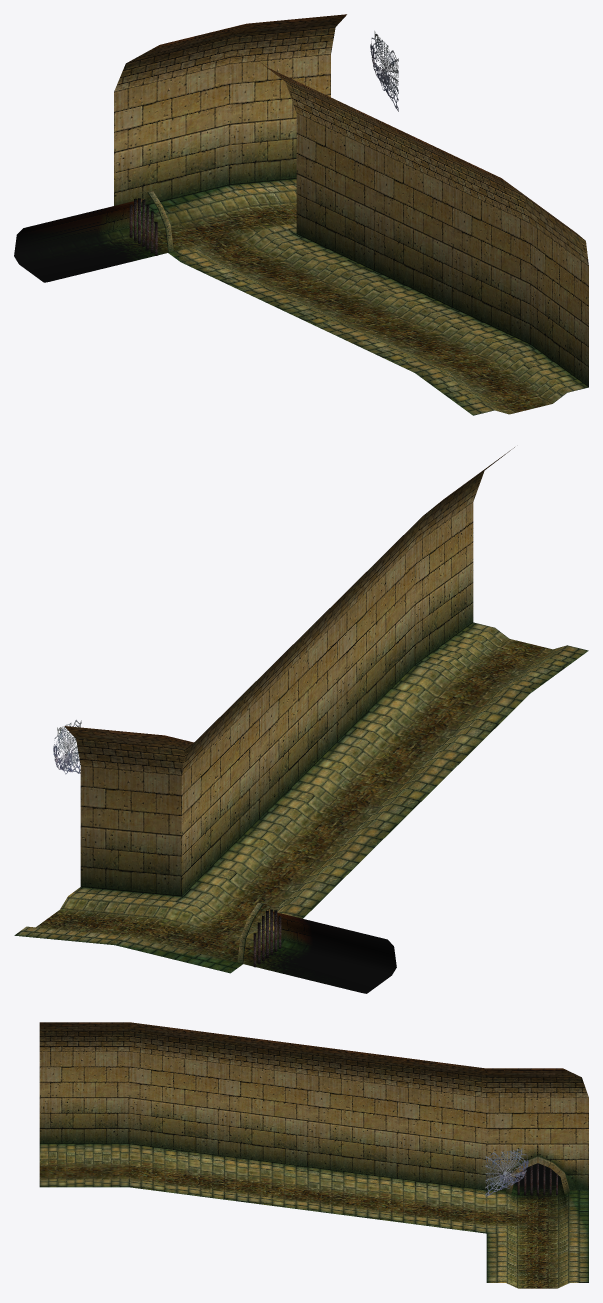
Rendered from Mission12_Sewer02_A.glb.
3 renders of one model, top to bottom at view 1: azimuth 30°, elevation 25°; view 2: azimuth 150°, elevation 25°; view 3: azimuth 270°, elevation 25°, orthographic. The views are drawn at different scales.
Visible parts, largest first — view 1: MISSION12_SEWER02_A; view 2: MISSION12_SEWER02_A; view 3: MISSION12_SEWER02_A.
Part boxes in pixels (x1=…): MISSION12_SEWER02_A: x1=14, y1=14, x2=588, y2=415; MISSION12_SEWER02_A: x1=14, y1=447, x2=588, y2=993; MISSION12_SEWER02_A: x1=39, y1=1022, x2=588, y2=1288.
Size of the model in its own units: 11.5 by 8.75 by 22.5.
Materials: 7 (7 with a texture image).
